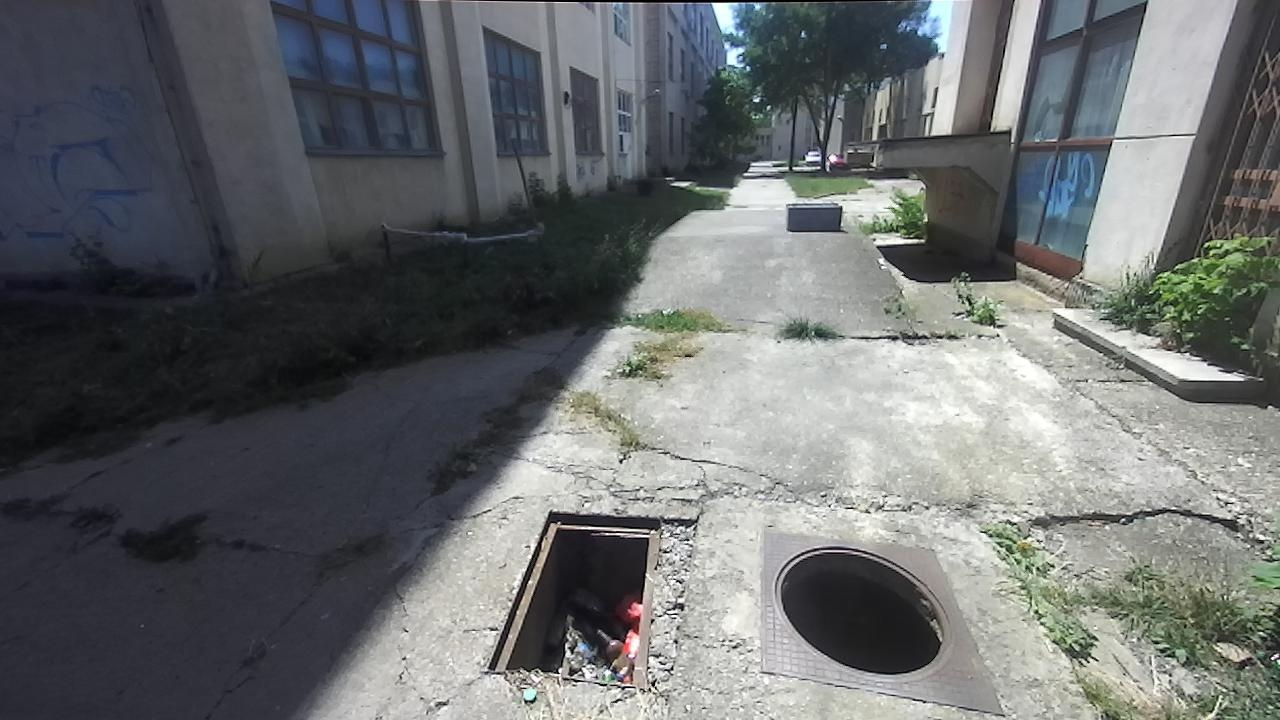drain: (485, 509, 667, 687), (769, 543, 957, 679)
